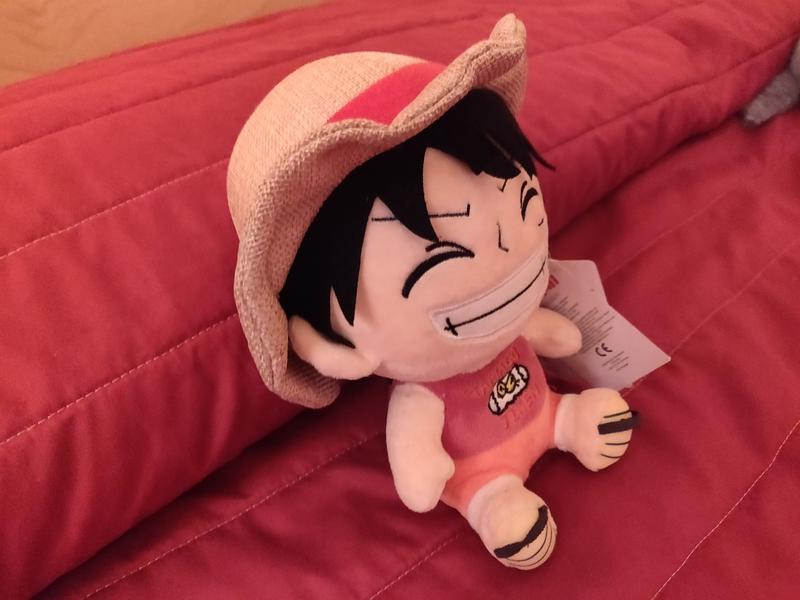rufy: (214, 23, 689, 571)
